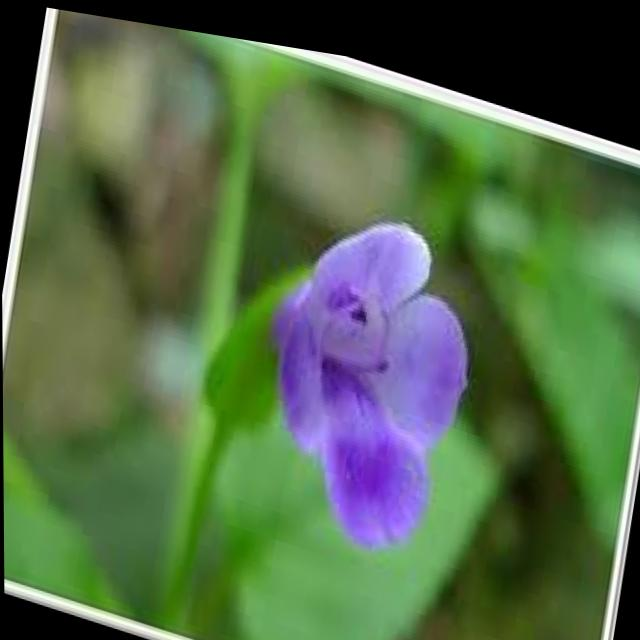Flower: (235, 159, 505, 581)
